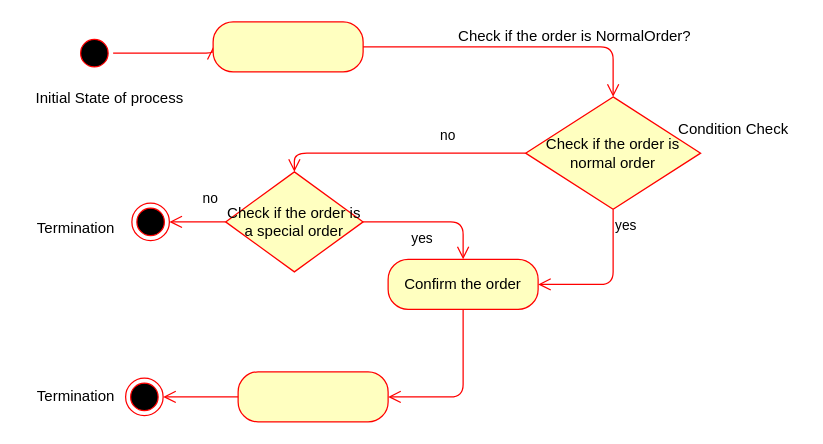
The diagram is 823 pixels wide and 444 high, and some of its shapes have lost their labels. Each missing label, with the centre of its shape:
Customer sends an order object: [287,46]
Dispatch the order: [312,396]
